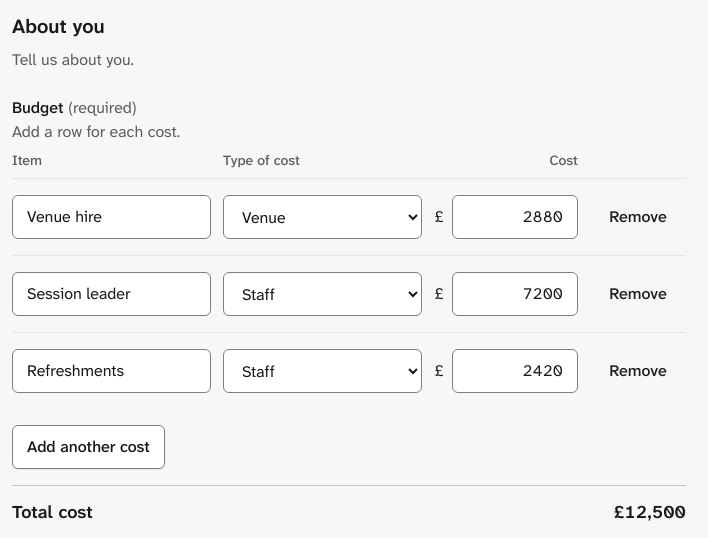
Test: TableQuestion › rows › removes the row, and moves focus to the same place in the next row
The width and height of the screenshot is (708, 538).
Click the button named "Remove cost 2": (638, 294) 590,272 -> 686,316
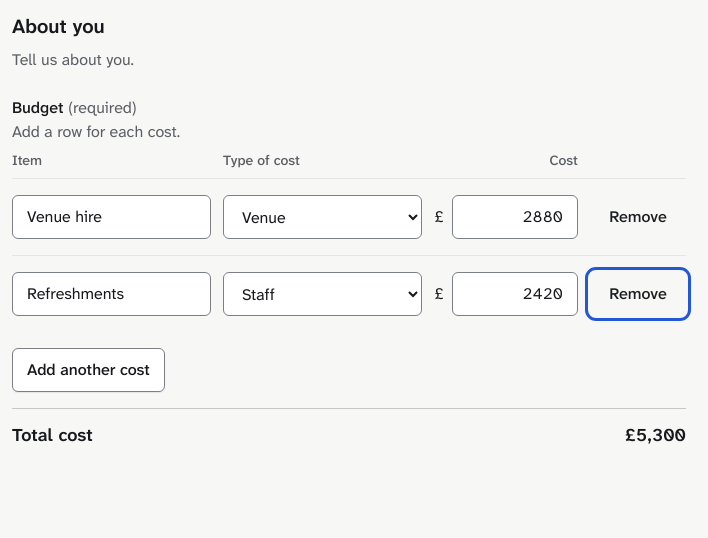
Expected: the element "Cost 3" is not shown
Result: the 3rd field named "Item" holds "Refreshments" at 12,272 -> 211,316
